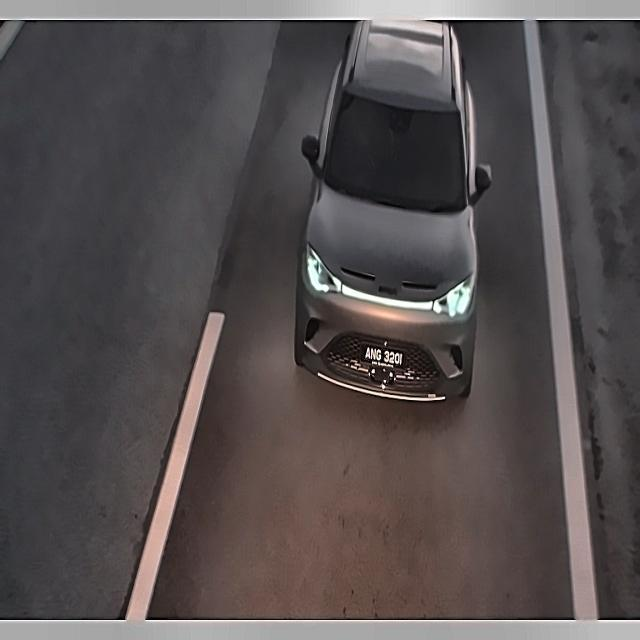car: (360, 339, 408, 376)
